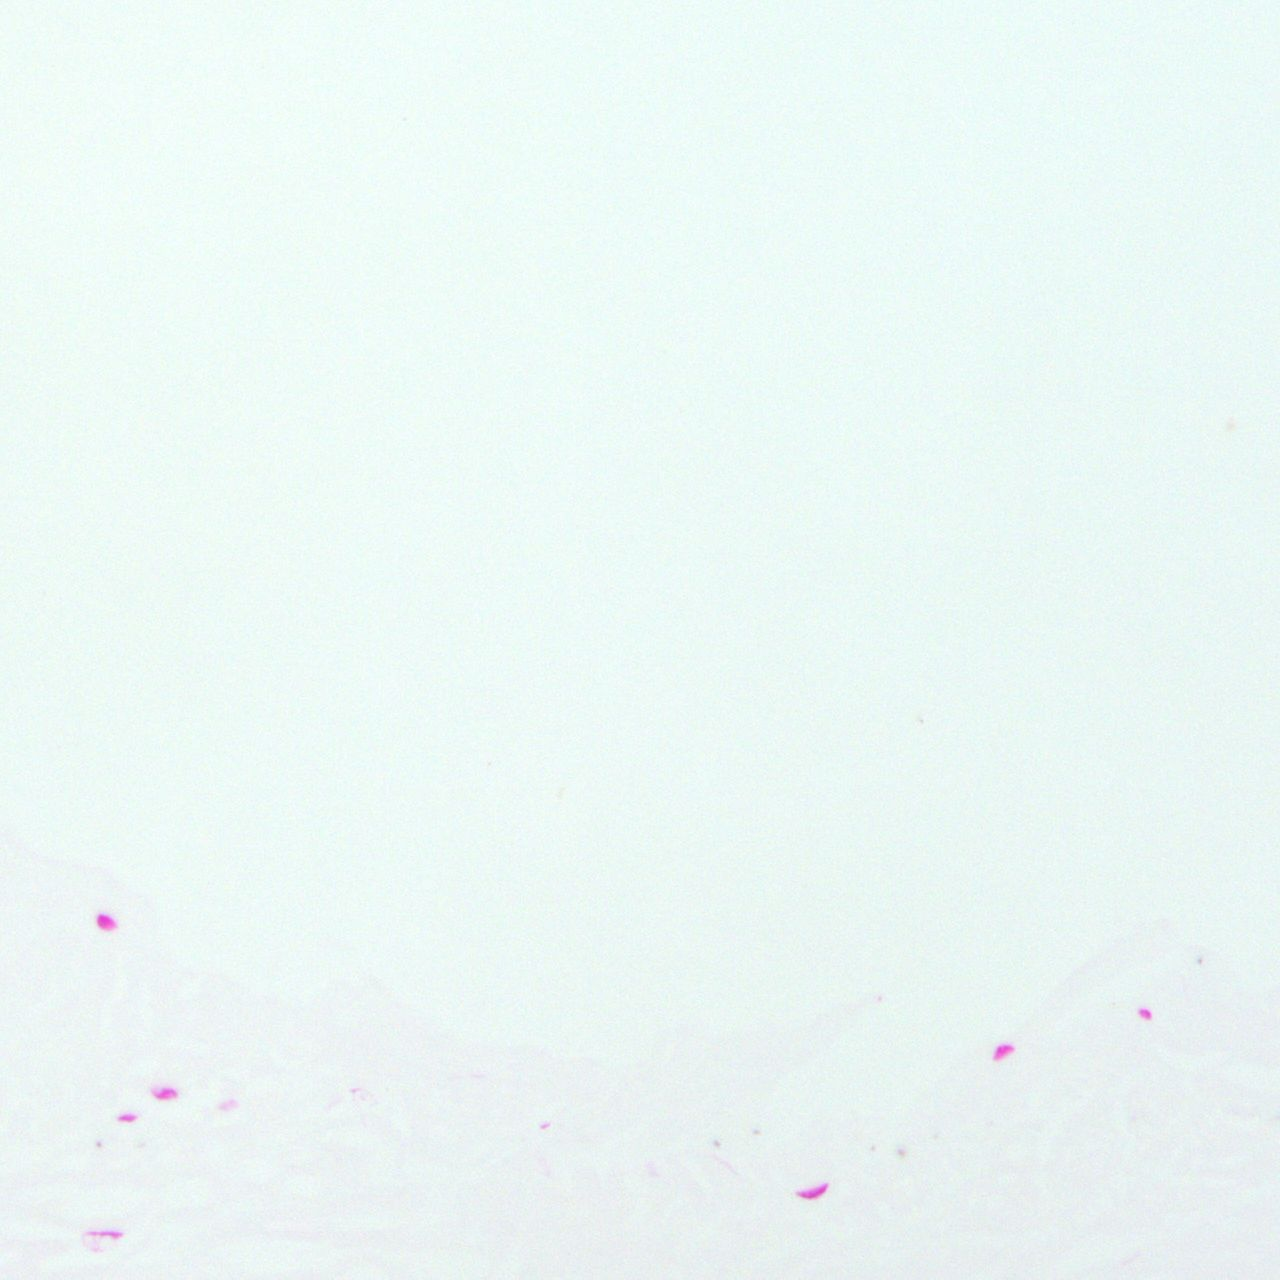dust: (713, 1141, 720, 1148), (95, 1141, 101, 1146), (753, 1129, 760, 1133), (1197, 956, 1201, 964), (871, 1145, 874, 1150)
nucleus-FG: (796, 1182, 831, 1201), (988, 1039, 1016, 1062), (94, 911, 118, 933), (1137, 1005, 1155, 1022), (154, 1087, 176, 1099), (118, 1114, 135, 1121)
